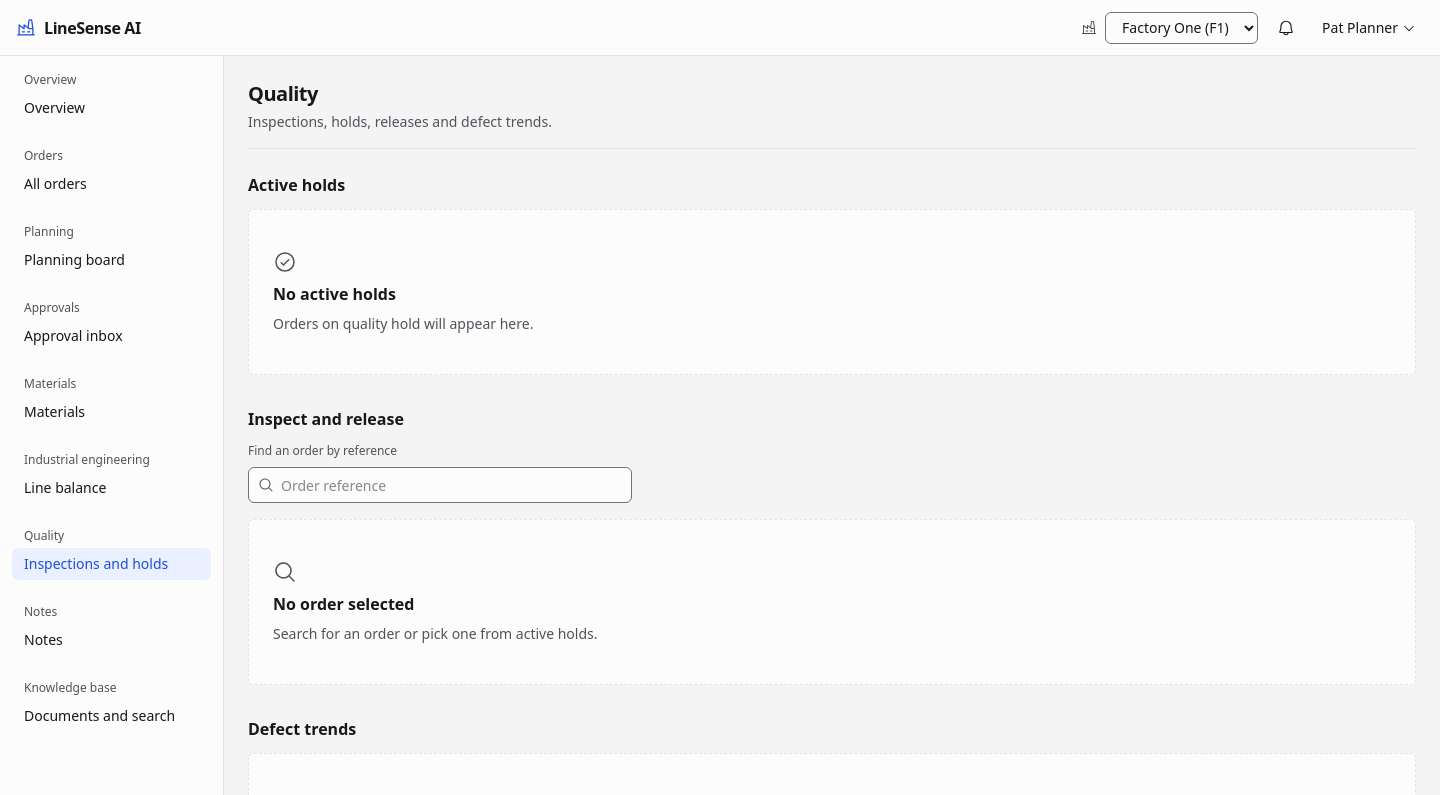
Test: ReleaseReview › blocks release and explains separation of duties when the viewer was the inspector
The width and height of the screenshot is (1440, 795).
Type "PO-3001" into the search field labelled "Find an order by reference" at (440, 485), box [248,467,632,503]
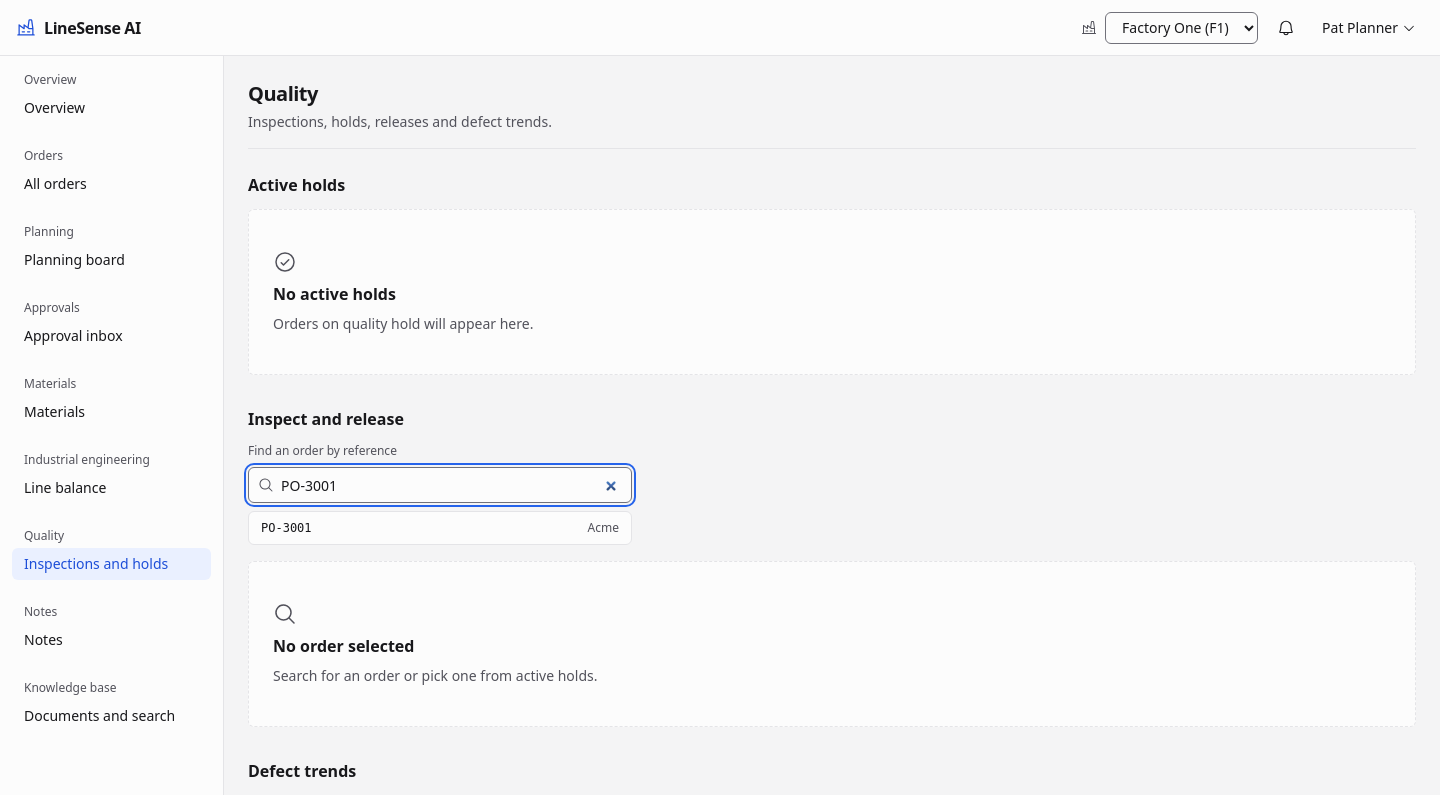
Click the button "PO-3001 Acme" at (286, 528), box [249,512,631,544]
(page scrolled)
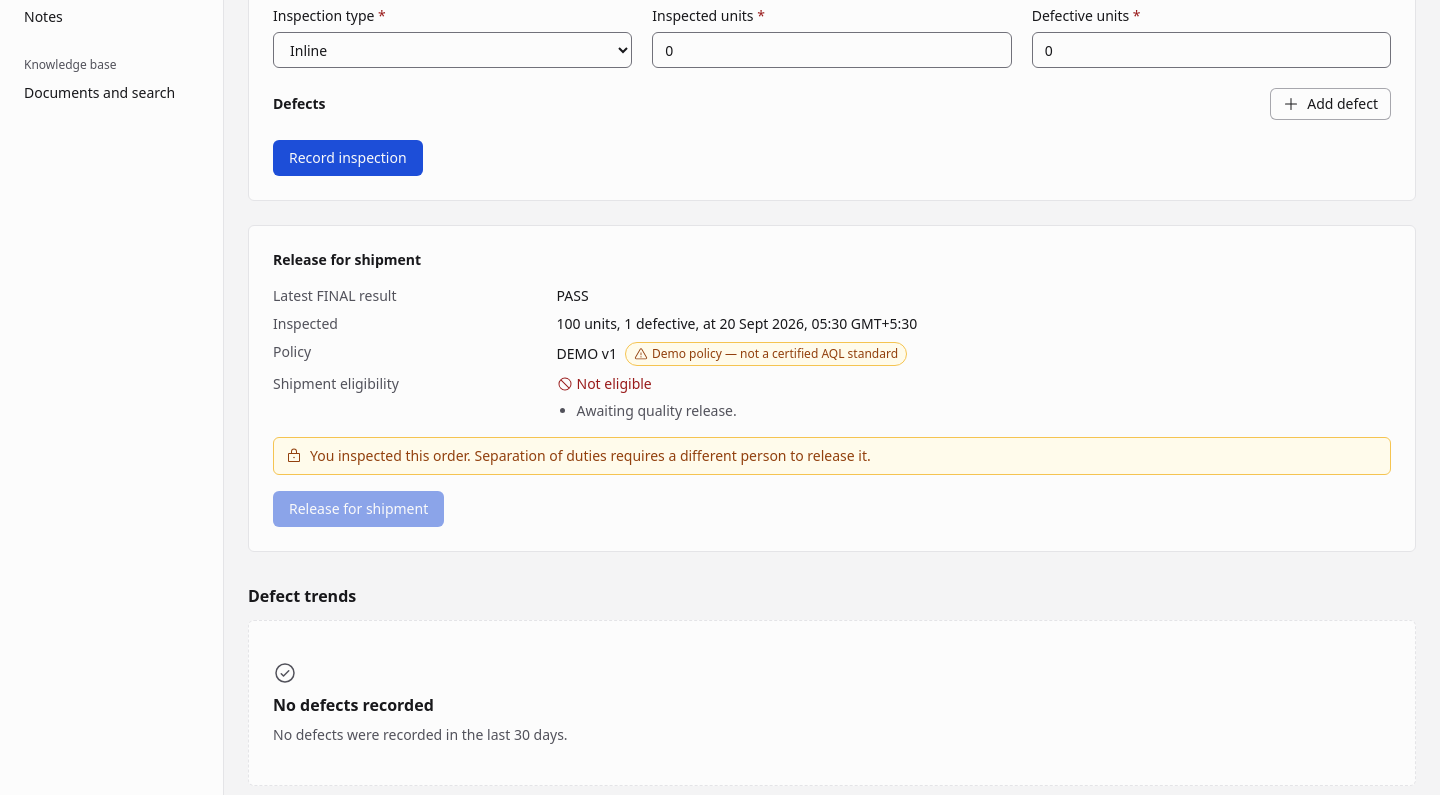
Expected: the heading "Release for shipment" is shown, [273,250,421,269]
Expected: the text "You inspected this order. Separation of duties requires a different person to release it." is shown, [310,446,871,465]
Expected: the button "Release for shipment" is disabled, [273,491,444,527]
